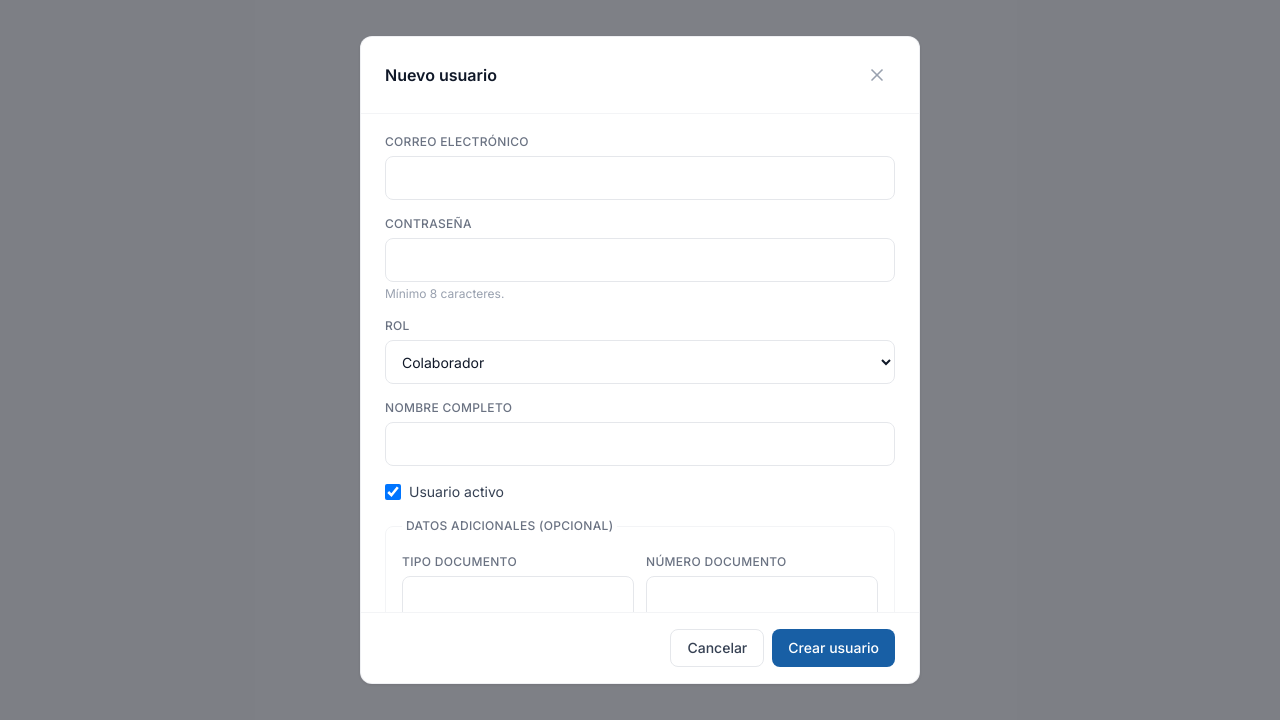
Test case: UsuarioCreateModal › valida longitud mínima de contraseña
Type "nuevo@test.com" into the field labelled "Correo electrónico" at (640, 178), box [385,156,895,200]
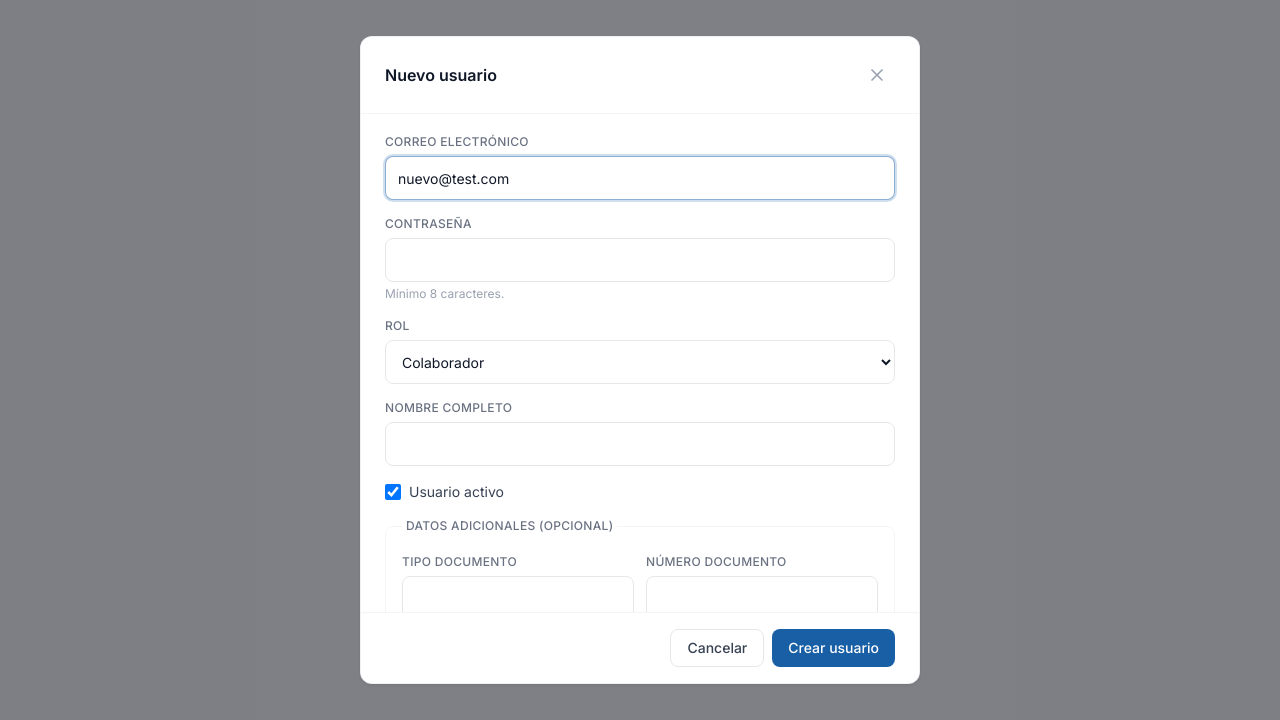
Type "corta" into the password field labelled "Contraseña" at (640, 260), box [385,238,895,282]
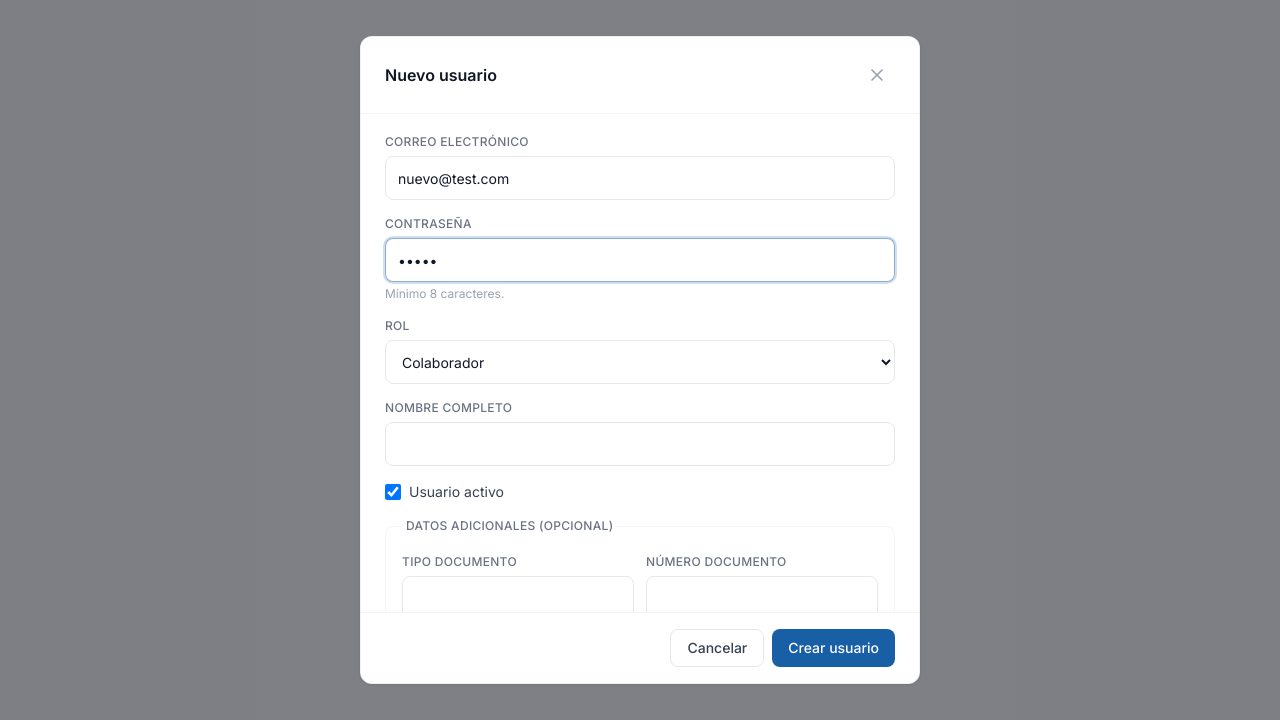
Click the button "Crear usuario" at (834, 648), box [772,629,895,667]
(page scrolled)
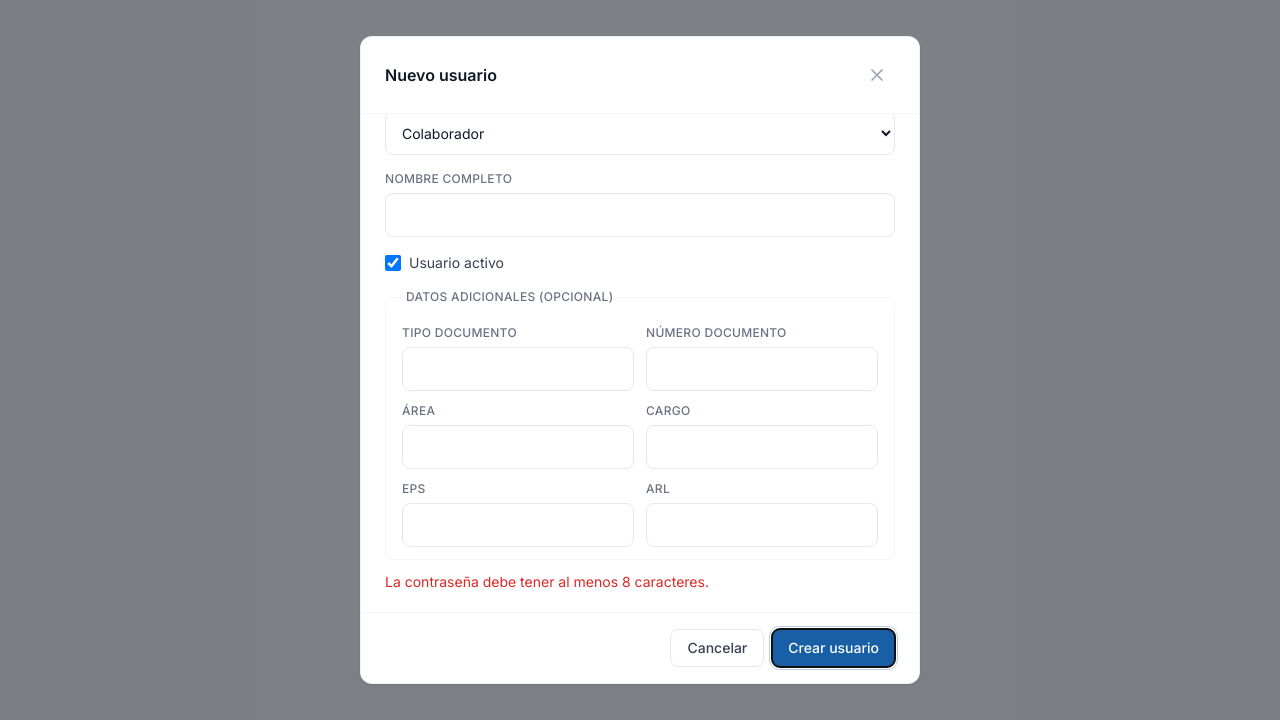
Expected: the message shows "al menos 8 caracteres", [385,573,709,590]
